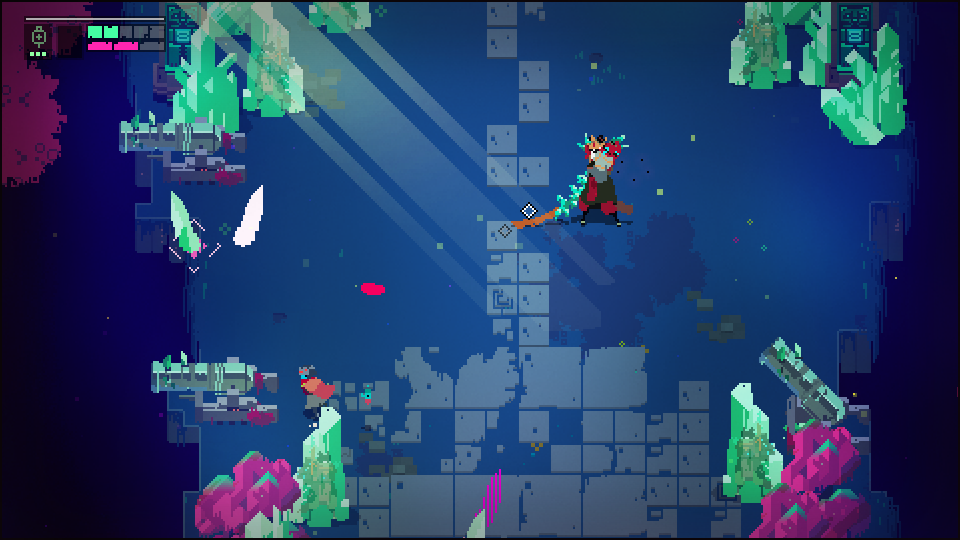hanged_crys: (231, 185, 267, 254), (167, 188, 199, 257)
hanged_man: (557, 132, 641, 227)
player: (297, 365, 335, 414)
